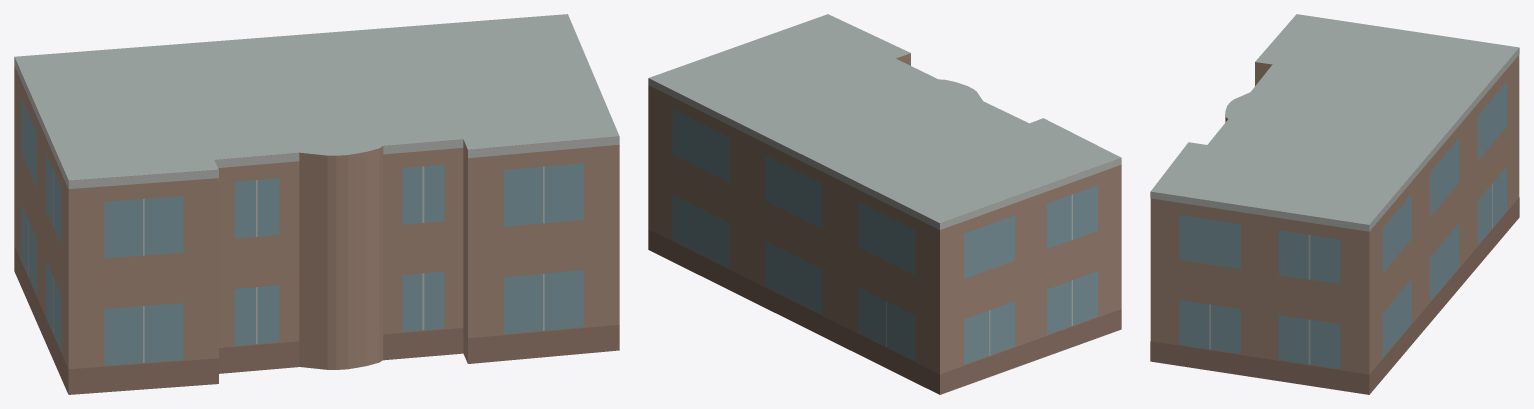
File: survey-upis-32574470.glb
3 renders of one model, left to right at view 1: azimuth 30°, elevation 25°; view 2: azimuth 150°, elevation 25°; view 3: azimuth 270°, elevation 25°, orthographic. The views are drawn at different scales.
Visible parts, largest first — view 1: survey-upis-32574470.tmp; view 2: survey-upis-32574470.tmp; view 3: survey-upis-32574470.tmp.
Boxes of the visible parts, bbox=[...] form: survey-upis-32574470.tmp: bbox=[14, 14, 619, 394]; survey-upis-32574470.tmp: bbox=[648, 14, 1121, 394]; survey-upis-32574470.tmp: bbox=[1150, 14, 1519, 394].
Bounding box in the file's own units: 16.25 × 6.1 × 12.02.
